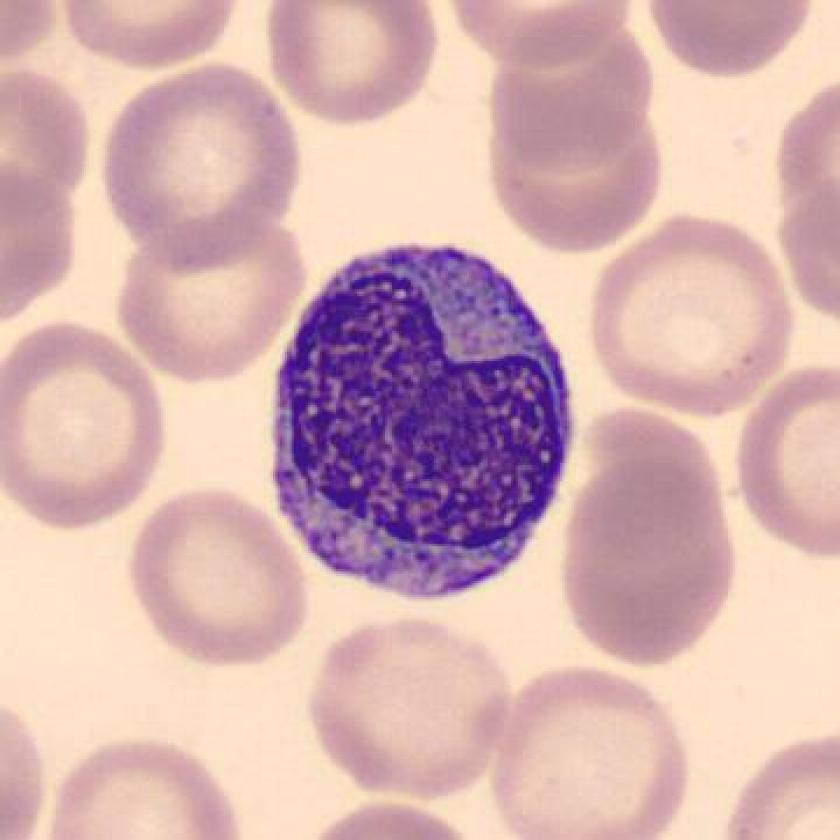monocyte: (255, 223, 594, 617)
